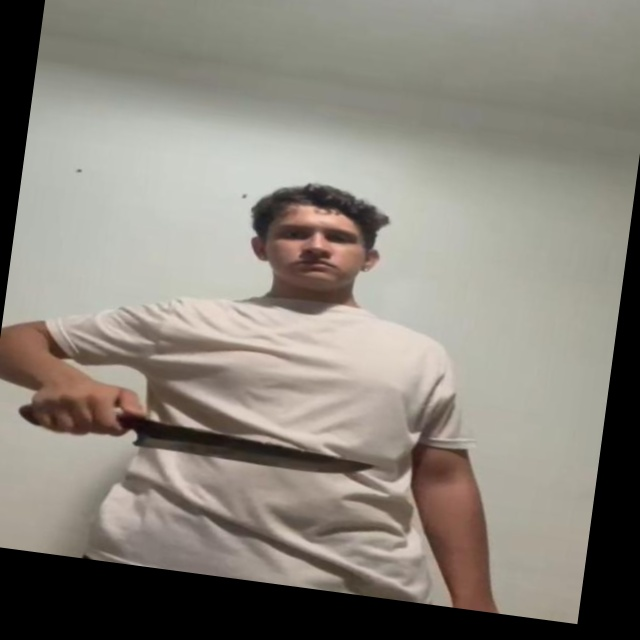Sharp-Object: (131, 419, 384, 484)
